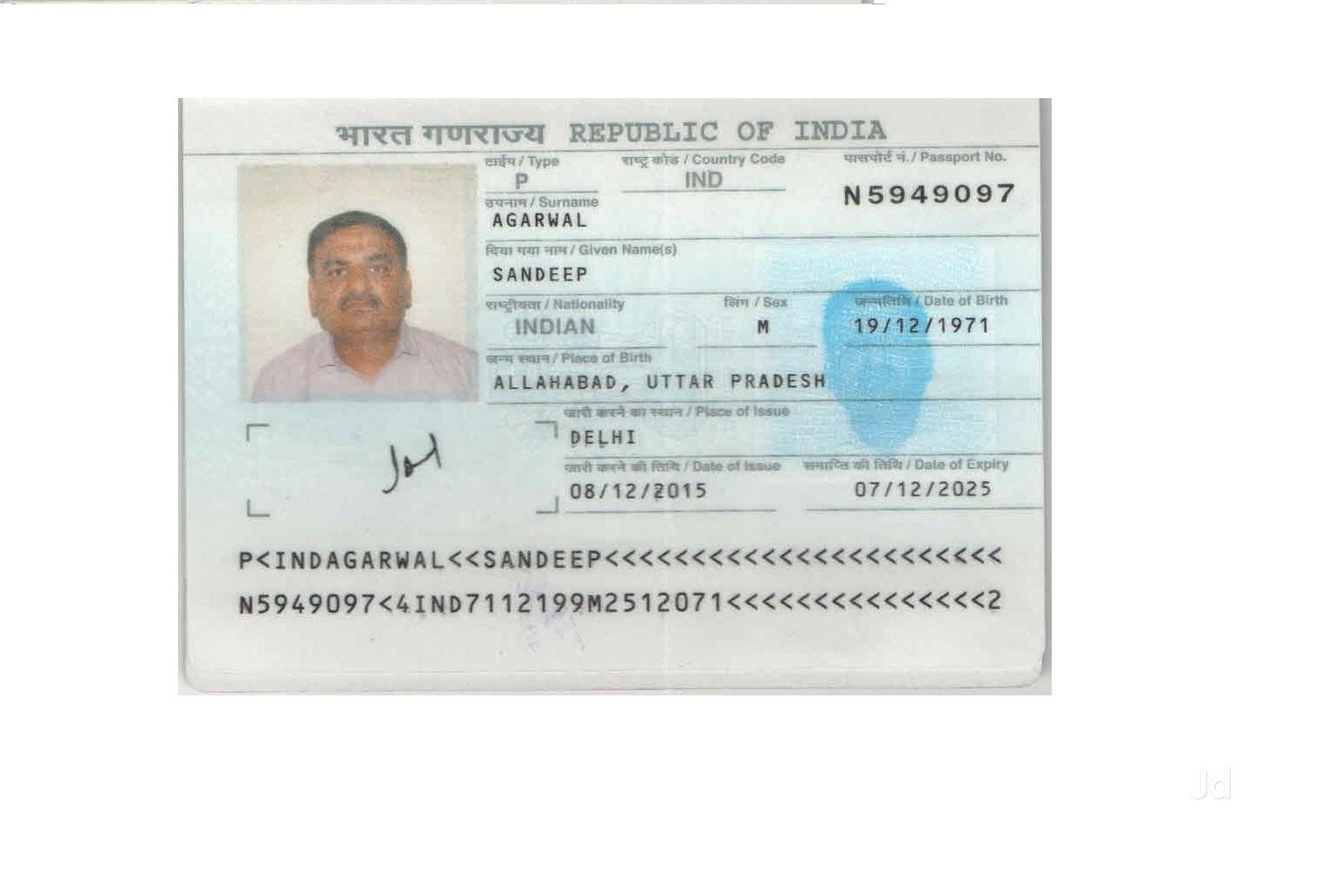DOB: (844, 307, 1014, 345)
Surname: (486, 202, 593, 243)
country_code: (674, 161, 730, 198)
date_of_expiry: (832, 471, 1010, 511)
date_of_issue: (552, 474, 727, 516)
details: (215, 535, 1021, 639)
name: (491, 254, 604, 291)
nationality: (507, 309, 604, 348)
passport_no: (836, 169, 1025, 221)
photo: (239, 158, 486, 399)
place_of_birth: (491, 360, 836, 395)
place_of_issue: (561, 422, 658, 457)
sex: (740, 309, 785, 350)
spouse_name: (361, 420, 465, 504)
type: (504, 163, 543, 197)
